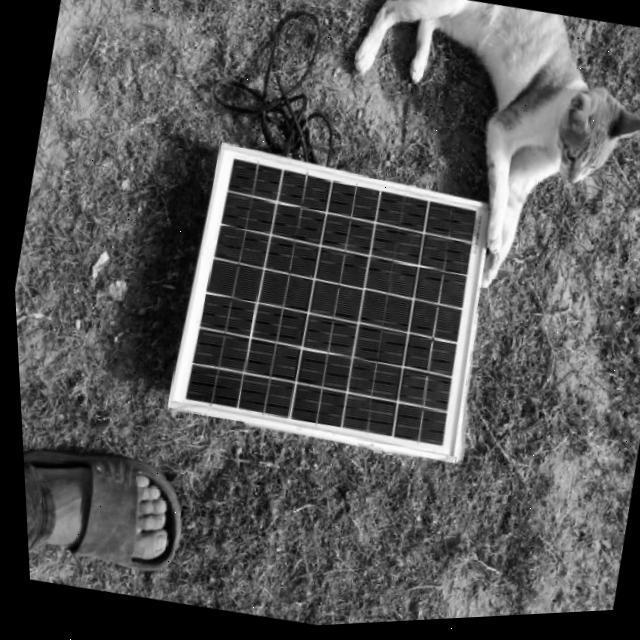Normal Solar Panel: (156, 135, 514, 476)
